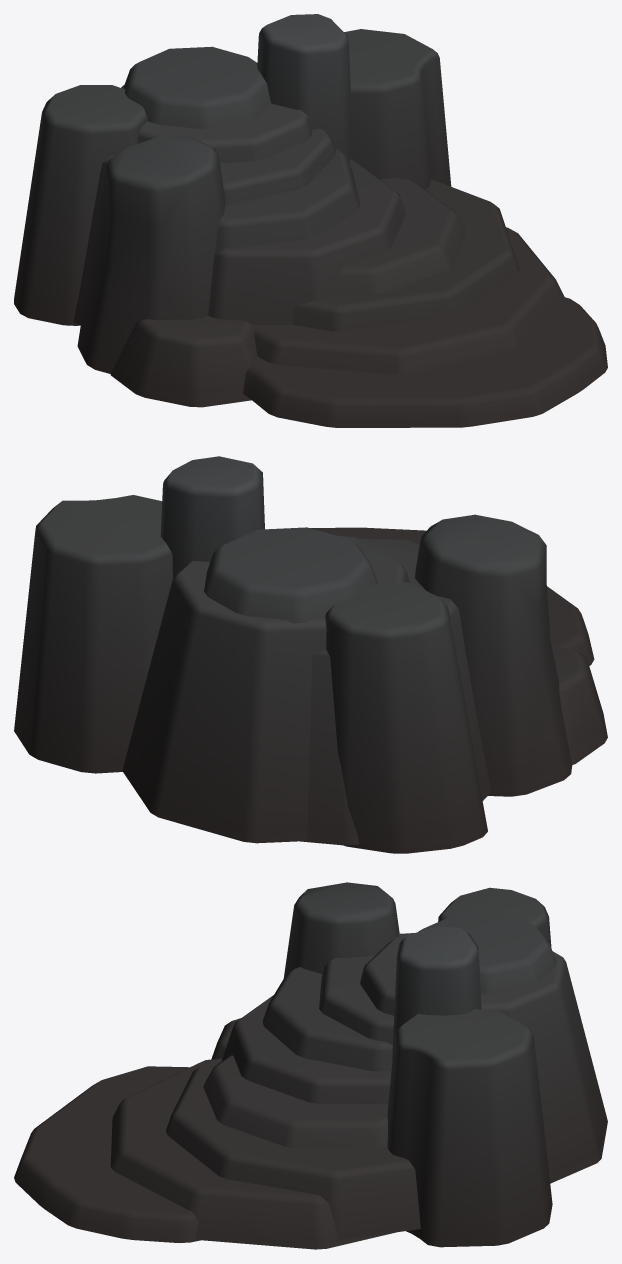
The model's file is inferno-stairs-middle-001.glb.
The picture shows the model from 3 angles, top to bottom: view 1: azimuth 30°, elevation 25°; view 2: azimuth 150°, elevation 25°; view 3: azimuth 270°, elevation 25°; orthographic projection. The views are drawn at different scales.
Parts seen in each view (by area): view 1: StairsMiddle_001; view 2: StairsMiddle_001; view 3: StairsMiddle_001.
Part boxes in pixels (box(x1,y1,x2,y2)): StairsMiddle_001: box(14, 14, 607, 427); StairsMiddle_001: box(14, 456, 607, 853); StairsMiddle_001: box(14, 882, 607, 1249).
Size of the model in its own units: 10.14 by 5.5 by 12.42.
1 material, 1 textured.
